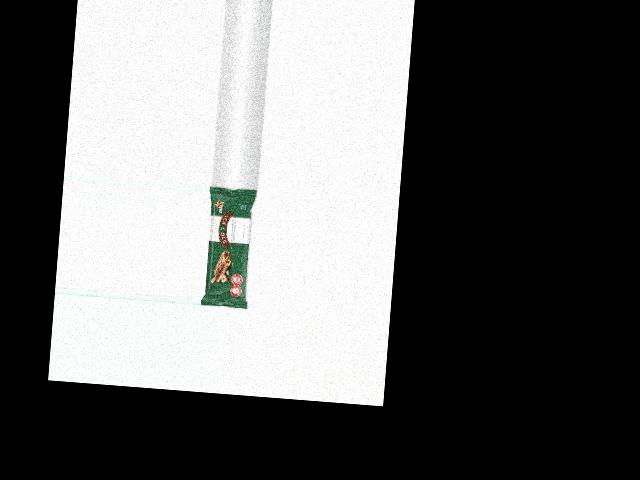chocolate: (200, 184, 259, 310)
